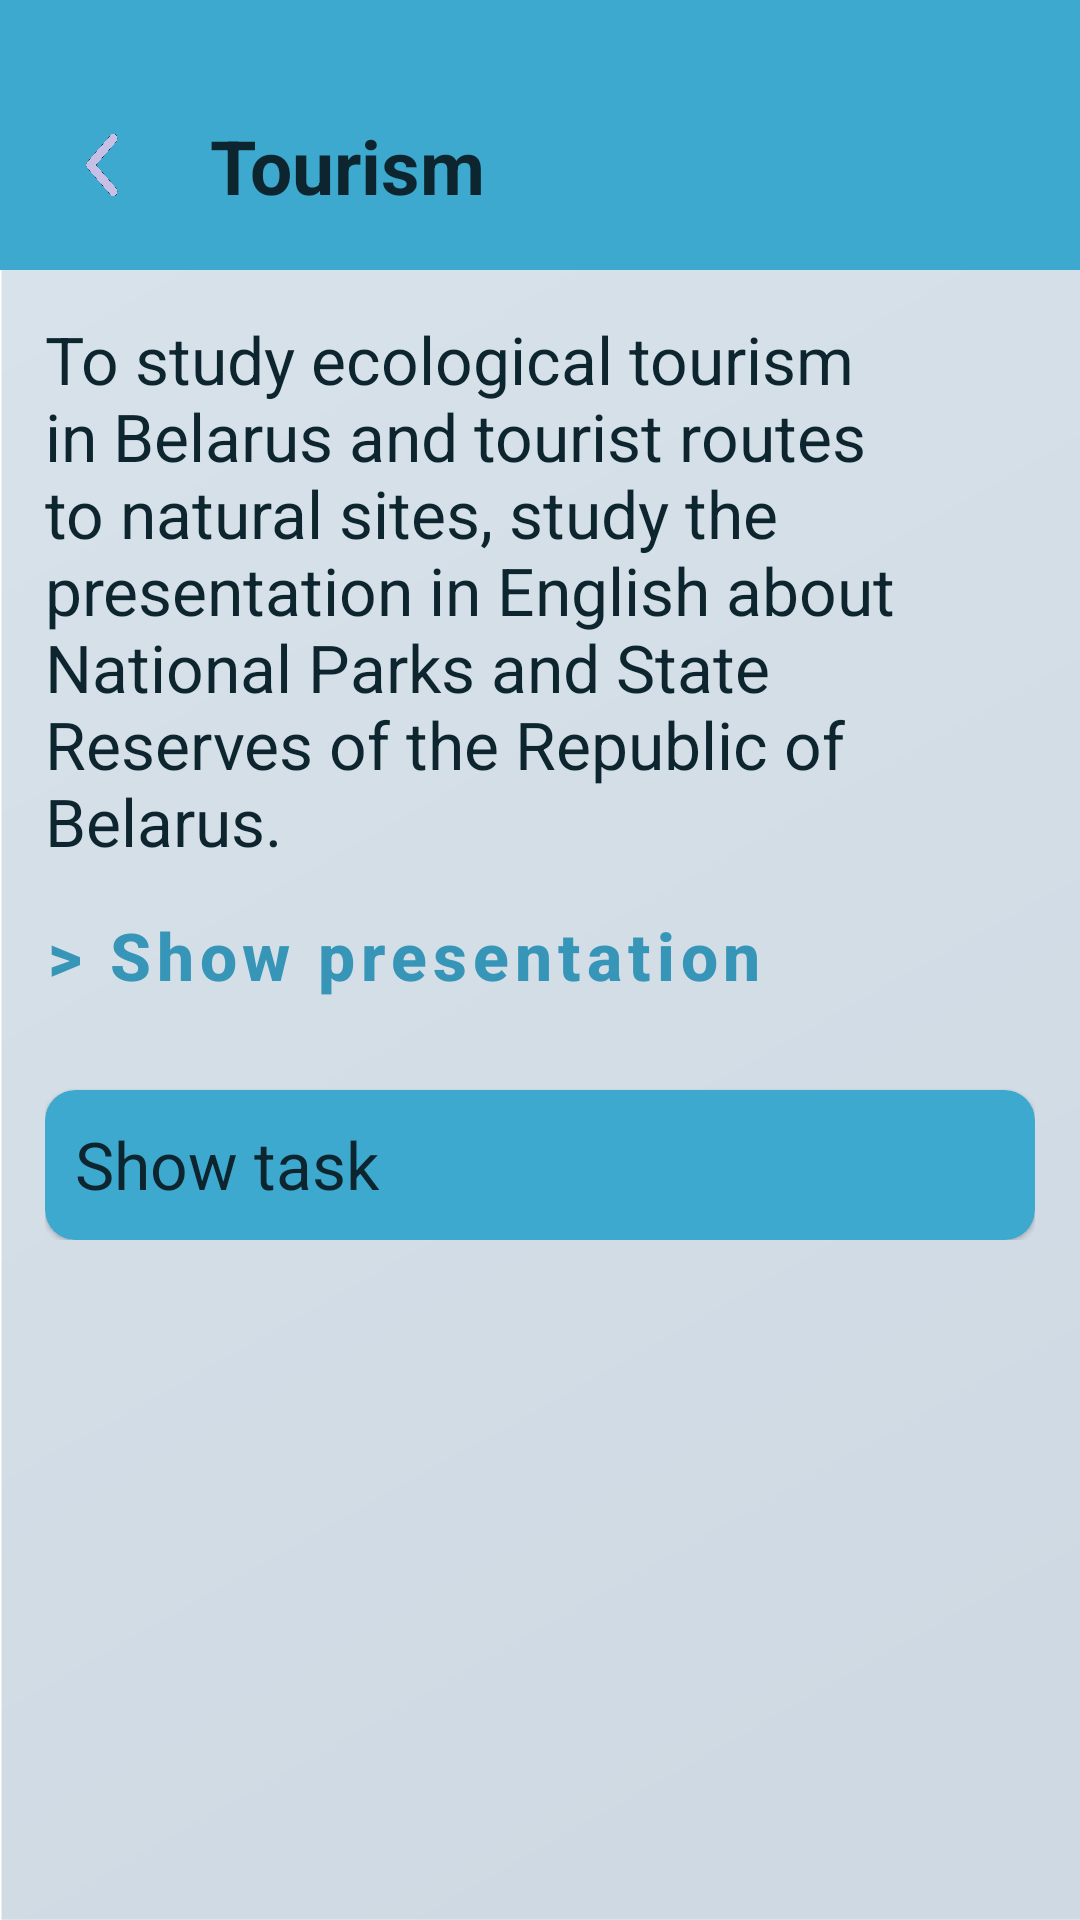

Icon bounding boxes for this 1080*1920 phone screenshot, format detection(x1, y1, x2, y2):
back: detection(86, 134, 118, 196)
